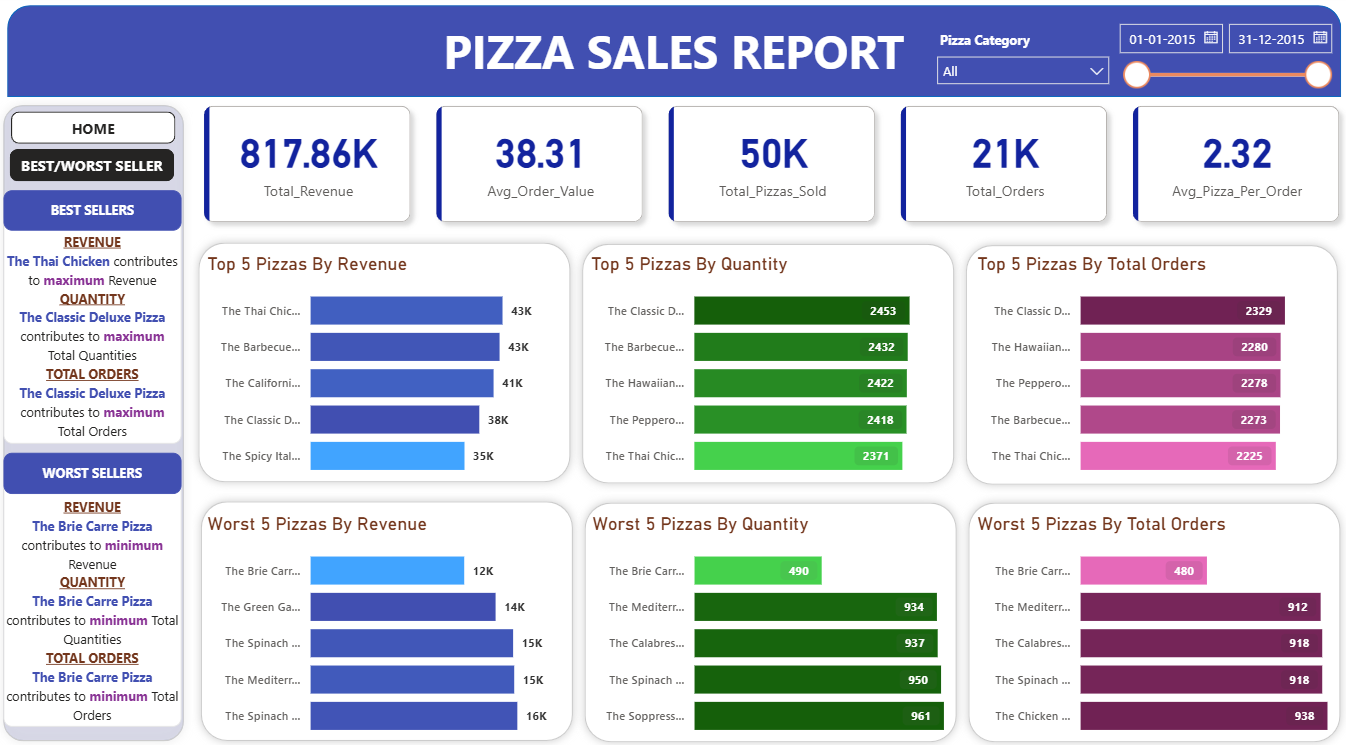

What the dashboard file says about the page in this screenshot:
{"tool":"powerbi","page":{"name":"BEST/WORST SELLER","canvas":[1280,720],"ordinal":1},"visuals":[{"type":"cardVisual","fields":{"Data":["pizza_db pizzasales_db.Total_Revenue","pizza_db pizzasales_db.Avg_Order_Value","pizza_db pizzasales_db.Total_Pizzas_Sold","pizza_db pizzasales_db.Total_Orders","pizza_db pizzasales_db.Avg_Pizza_Per_Order"]},"box":[185.6,87,1094.6,142.9],"z":0},{"type":"shape","box":[19.5,10,1240.9,85.5],"z":1000},{"type":"textbox","box":[399,19,482,68],"z":2000},{"type":"shape","box":[191.3,464,362.1,239],"z":3000},{"type":"shape","box":[8.2,95.3,183.9,607.7],"z":4000},{"type":"textbox","box":[16.8,202,165.7,216.2],"z":5000},{"type":"textbox","box":[16.4,183.1,165.9,37.8],"z":6000},{"type":"slicer","fields":{"Values":["pizza_db pizzasales_db.pizza_category"]},"box":[874.7,30,180.6,57.1],"z":7000},{"type":"slicer","fields":{"Values":["pizza_db pizzasales_db.order_date"]},"box":[1041.5,17.7,218.5,80.8],"z":8000},{"type":"shape","box":[548.5,464.8,362.1,239],"z":9000},{"type":"shape","box":[905.8,465.6,362.1,239],"z":10000},{"type":"shape","box":[189.5,223.7,362.1,239],"z":11000},{"type":"shape","box":[546.7,224.5,362.1,239],"z":12000},{"type":"shape","box":[903.9,225.3,362.1,239],"z":13000},{"type":"barChart","title":"Top 5 Pizzas By Revenue","fields":{"Category":["pizza_db pizzasales_db.pizza_name"],"Y":["pizza_db pizzasales_db.Total_Revenue"]},"box":[201.1,241,352.6,221.5],"z":14000},{"type":"barChart","title":"Worst 5 Pizzas By Revenue","fields":{"Category":["pizza_db pizzasales_db.pizza_name"],"Y":["pizza_db pizzasales_db.Total_Revenue"]},"box":[201.1,482.8,352.6,221.5],"z":15000},{"type":"barChart","title":"Top 5 Pizzas By Quantity","fields":{"Category":["pizza_db pizzasales_db.pizza_name"],"Y":["pizza_db pizzasales_db.Total_Pizzas_Sold"]},"box":[558.1,241,350.8,221.5],"z":16000},{"type":"barChart","title":"Worst 5 Pizzas By Quantity","fields":{"Category":["pizza_db pizzasales_db.pizza_name"],"Y":["pizza_db pizzasales_db.Total_Pizzas_Sold"]},"box":[559,482.8,346.4,221.5],"z":17000},{"type":"barChart","title":"Top 5 Pizzas By Total Orders","fields":{"Category":["pizza_db pizzasales_db.pizza_name"],"Y":["pizza_db pizzasales_db.Total_Orders"]},"box":[916.9,241,350.8,221.5],"z":18000},{"type":"barChart","title":"Worst 5 Pizzas By Total Orders","fields":{"Category":["pizza_db pizzasales_db.pizza_name"],"Y":["pizza_db pizzasales_db.Total_Orders"]},"box":[916.9,482.8,350.8,221.5],"z":19000},{"type":"textbox","box":[16.8,448.3,165.7,233],"z":19001},{"type":"textbox","box":[15.9,426.4,165.5,38.2],"z":19002},{"type":"pageNavigator","box":[22.2,143.7,153.6,30.4],"z":19003},{"type":"pageNavigator","box":[23,109.6,153.7,30.4],"z":19004}]}

Visuals, with their boxes in screenshot pixels (x1, y1, x2, y2), scaled from the page's 1280x720 canvas onto the 1346x745 screenshot:
cardVisual - pizza_db pizzasales_db.Total_Revenue x pizza_db pizzasales_db.Avg_Order_Value: (195,90,1345,238)
shape: (21,10,1325,99)
textbox: (420,20,926,90)
shape: (201,480,582,727)
shape: (9,99,202,727)
textbox: (18,209,192,433)
textbox: (17,189,192,229)
slicer - pizza_db pizzasales_db.pizza_category: (920,31,1110,90)
slicer - pizza_db pizzasales_db.order_date: (1095,18,1325,102)
shape: (577,481,958,728)
shape: (953,482,1333,729)
shape: (199,231,580,479)
shape: (575,232,956,480)
shape: (951,233,1331,480)
"Top 5 Pizzas By Revenue" barChart: (211,249,582,479)
"Worst 5 Pizzas By Revenue" barChart: (211,500,582,729)
"Top 5 Pizzas By Quantity" barChart: (587,249,956,479)
"Worst 5 Pizzas By Quantity" barChart: (588,500,952,729)
"Top 5 Pizzas By Total Orders" barChart: (964,249,1333,479)
"Worst 5 Pizzas By Total Orders" barChart: (964,500,1333,729)
textbox: (18,464,192,705)
textbox: (17,441,191,481)
pageNavigator: (23,149,185,180)
pageNavigator: (24,113,186,145)
